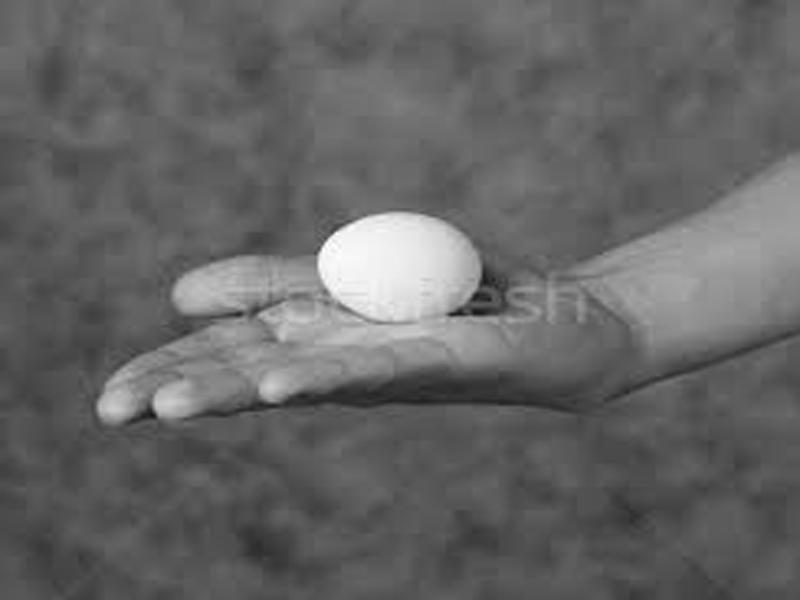Eggs: (318, 209, 482, 322)
